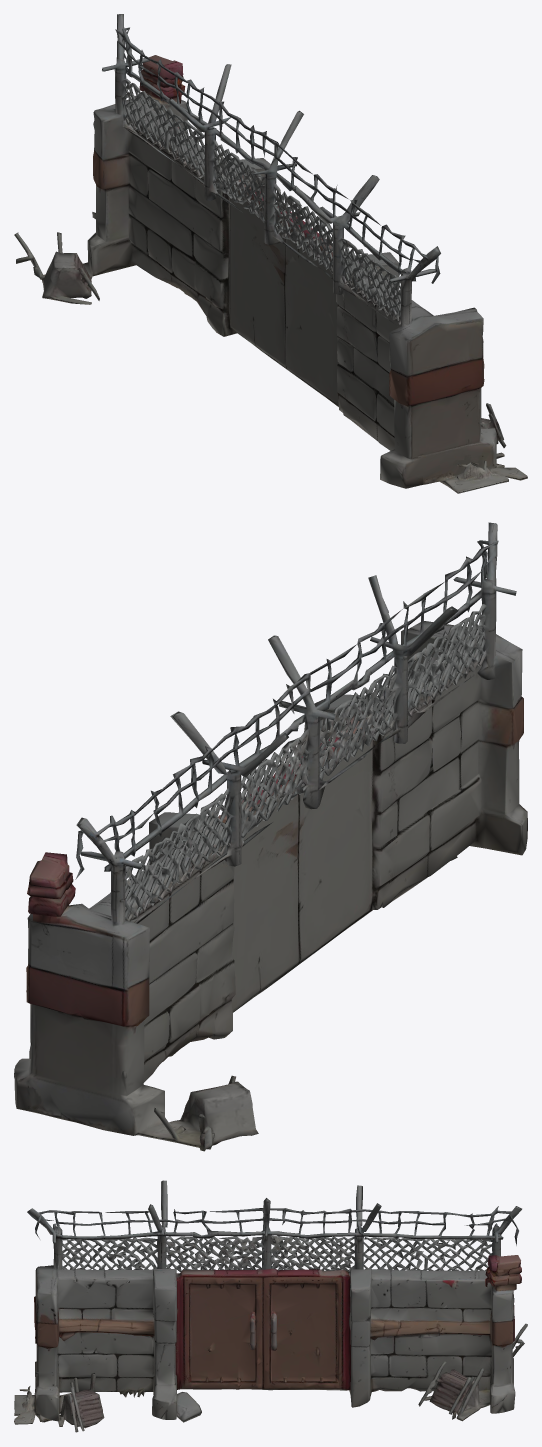
File: gate.glb
3 renders of one model, top to bottom at view 1: azimuth 30°, elevation 25°; view 2: azimuth 150°, elevation 25°; view 3: azimuth 270°, elevation 25°, orthographic. The views are drawn at different scales.
Parts seen in each view (by area): view 1: tripo_node_8c5daeaf-ca1e-42df-af3c-b5c3395cb8ef; view 2: tripo_node_8c5daeaf-ca1e-42df-af3c-b5c3395cb8ef; view 3: tripo_node_8c5daeaf-ca1e-42df-af3c-b5c3395cb8ef.
Part boxes in pixels (x1=…): tripo_node_8c5daeaf-ca1e-42df-af3c-b5c3395cb8ef: x1=14, y1=14, x2=527, y2=493; tripo_node_8c5daeaf-ca1e-42df-af3c-b5c3395cb8ef: x1=14, y1=522, x2=527, y2=1151; tripo_node_8c5daeaf-ca1e-42df-af3c-b5c3395cb8ef: x1=14, y1=1180, x2=527, y2=1432.
Size of the model in its own units: 0.3577 by 0.4379 by 1.
1 material, 1 textured.
